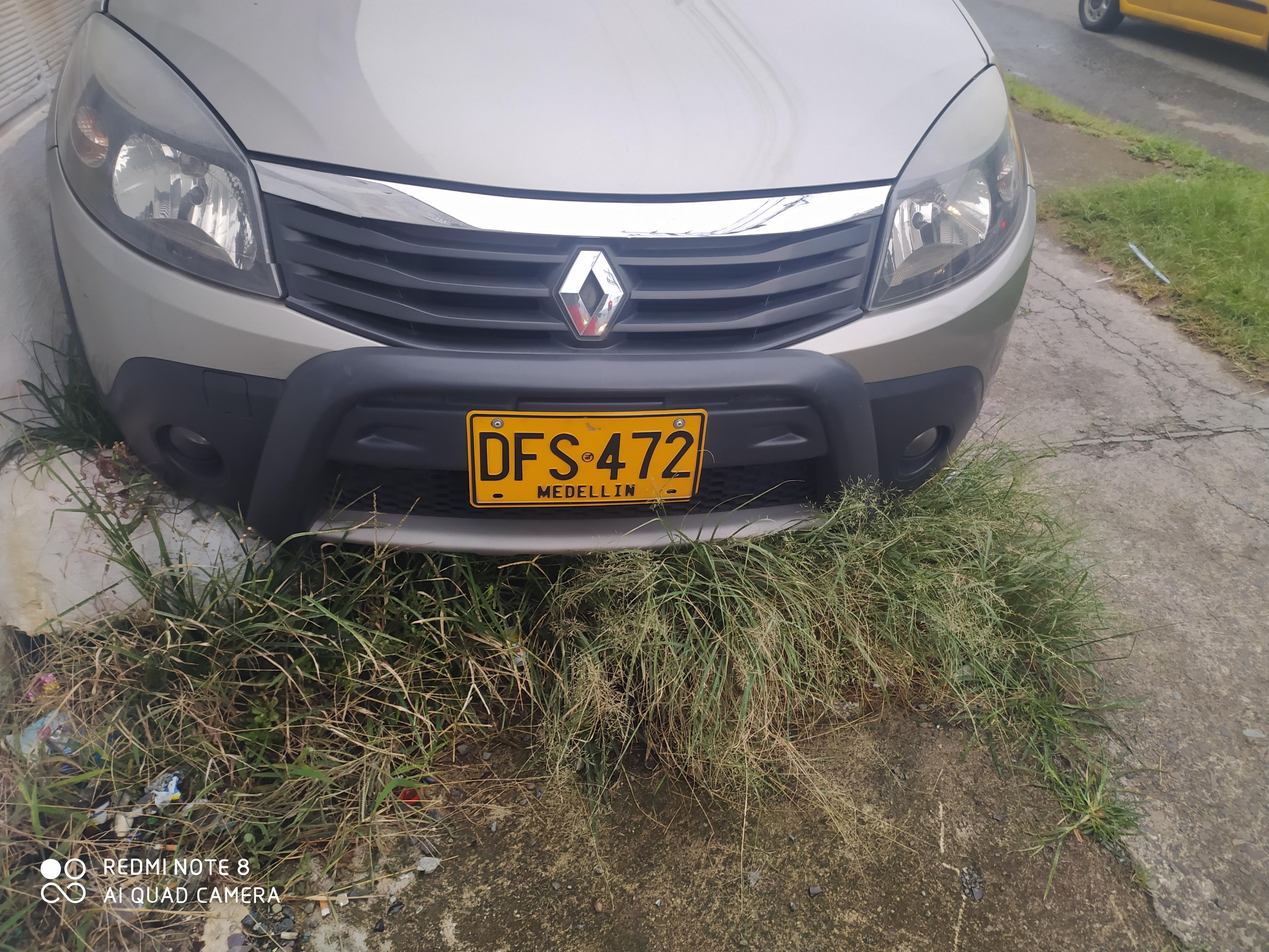placa: (460, 403, 708, 514)
